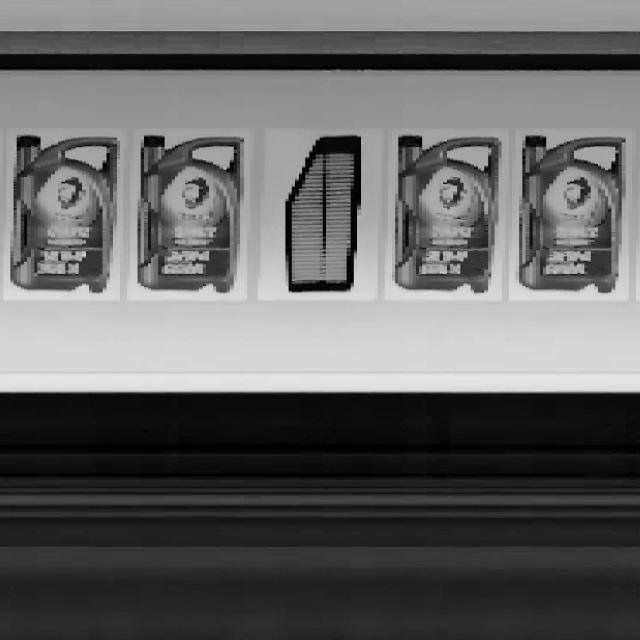air_filter: (280, 128, 366, 298)
motor_oil: (5, 129, 124, 297), (390, 130, 506, 302), (516, 128, 629, 299), (133, 129, 247, 297)
